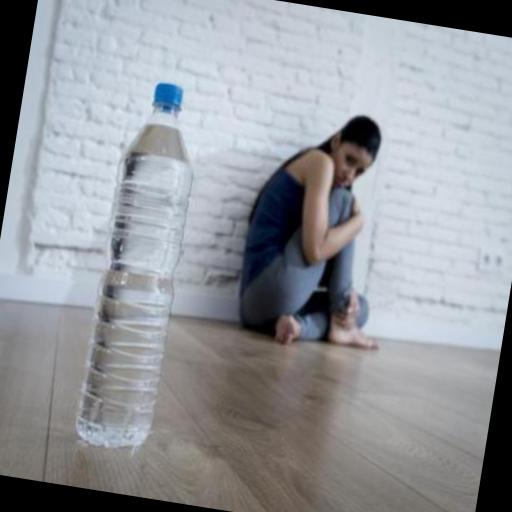Coca: (64, 68, 214, 469)
